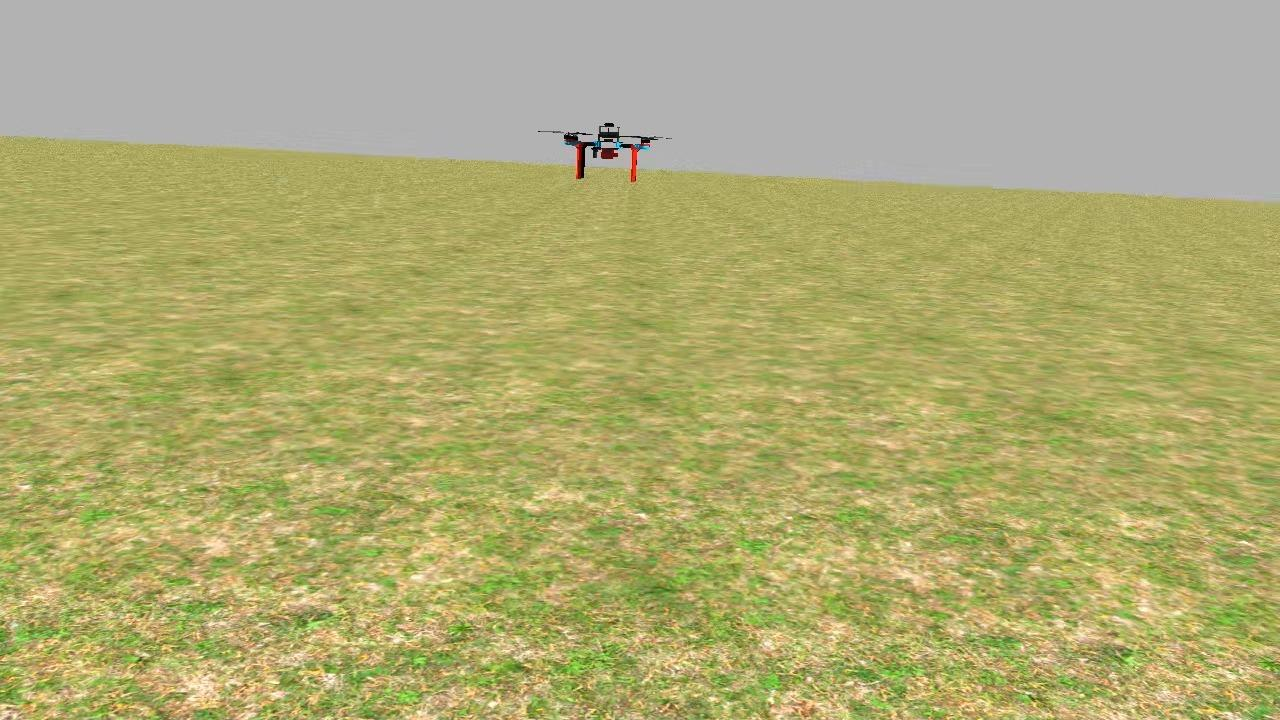UAV: (554, 114, 660, 183)
